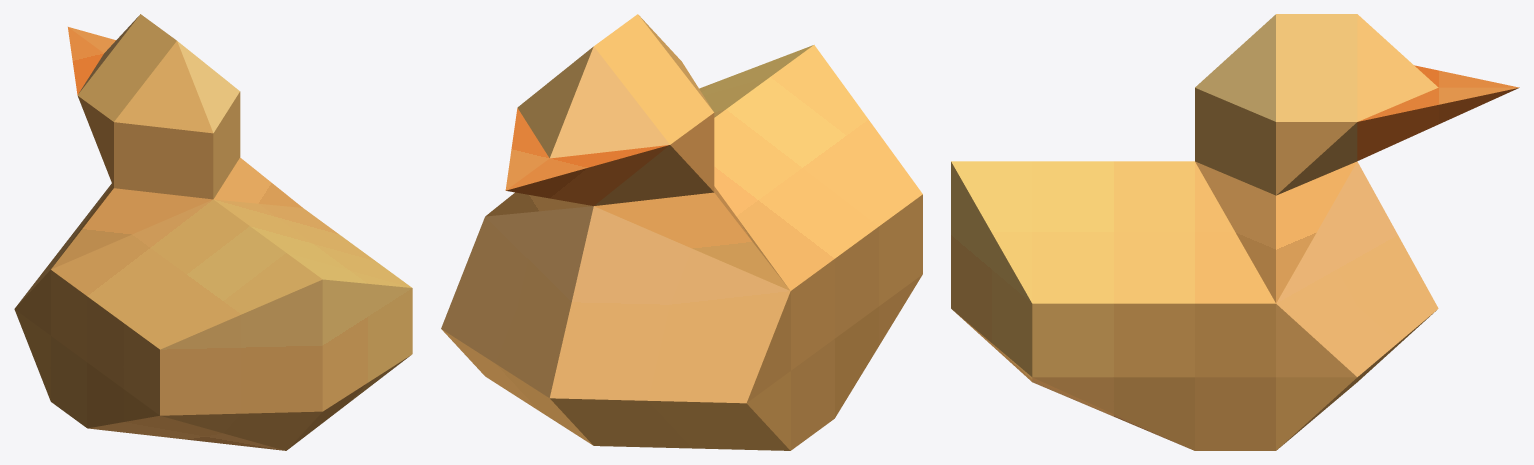
File: rubberduck.fbx
The picture shows the model from 3 angles, left to right: view 1: azimuth 30°, elevation 25°; view 2: azimuth 150°, elevation 25°; view 3: azimuth 270°, elevation 25°; orthographic projection. The views are drawn at different scales.
Parts seen in each view (by area): view 1: rubberduck; view 2: rubberduck; view 3: rubberduck.
Part boxes in pixels (x1,y1,x2,y2): rubberduck: (14,14,412,450); rubberduck: (441,14,922,450); rubberduck: (951,14,1519,450).
Size of the model in its own units: 20 by 25 by 35.
